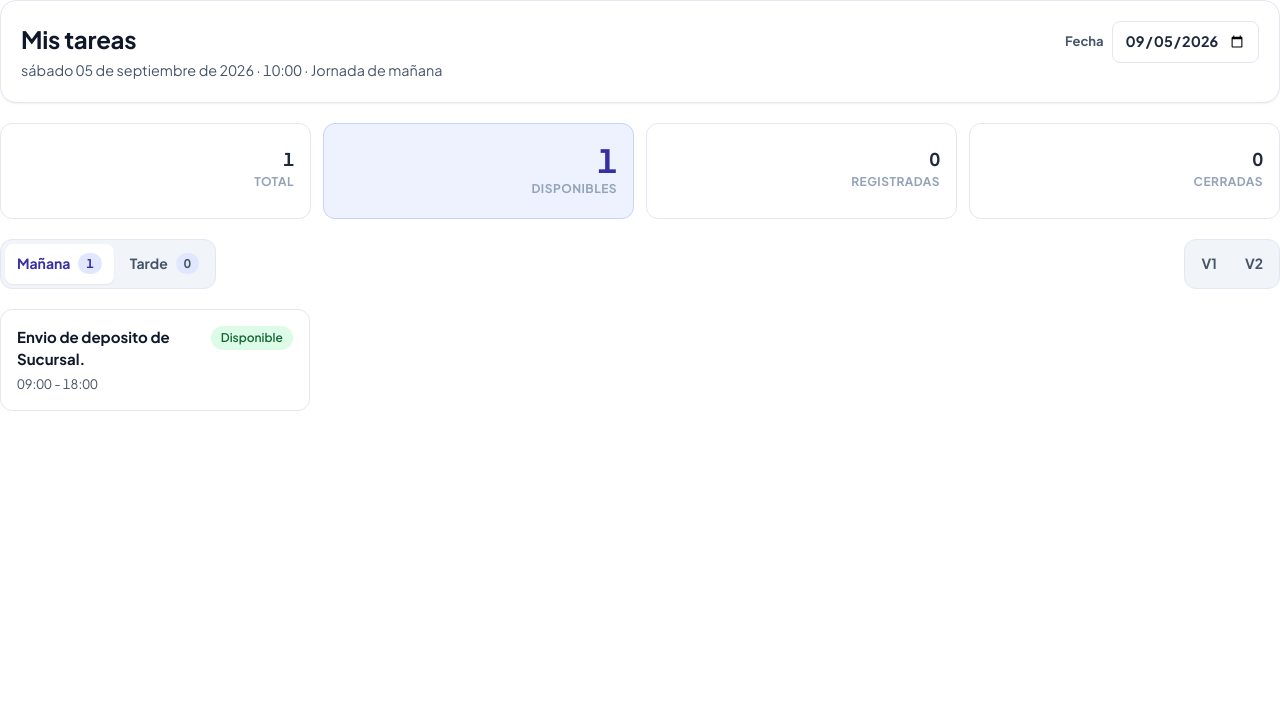
MisTareasPage deposit demonstrations › opens the real deposit report flow directly without rendering a selection checkbox or action bar
The width and height of the screenshot is (1280, 720).
Click the text "Envio de deposito de Sucursal.".
click(93, 348)  # box [17,327,170,368]
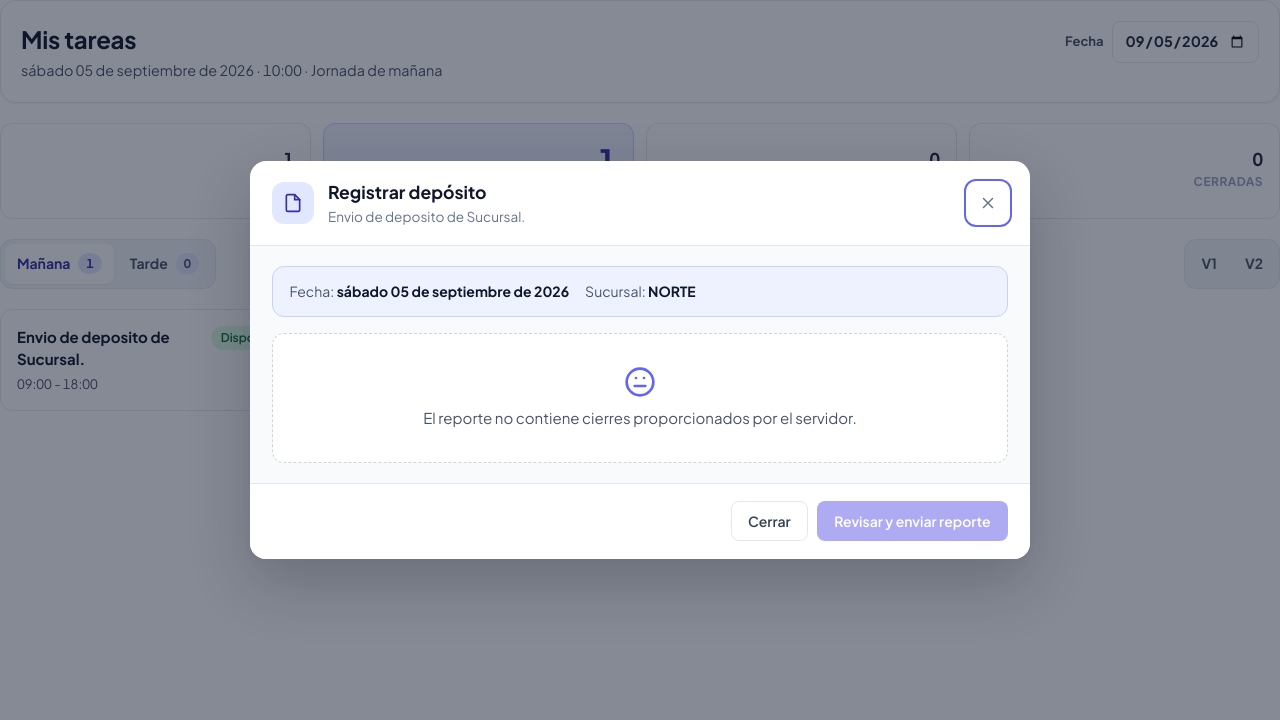
Now the dialog "Registrar depósito" is shown, box [250,161,1030,559]
